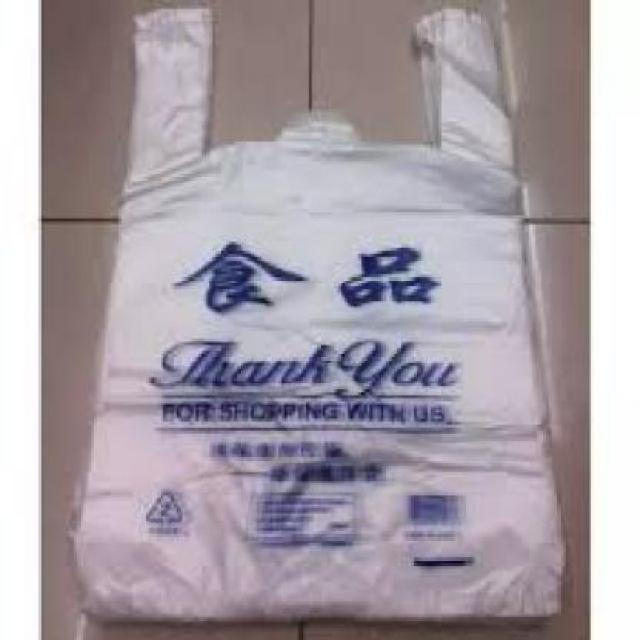plastic: (69, 3, 563, 619)
